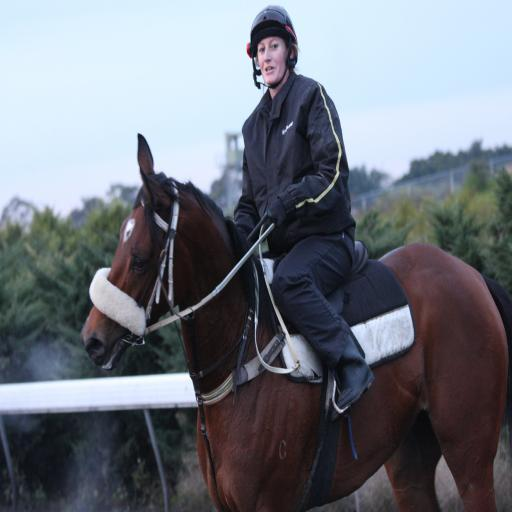horse: (82, 130, 510, 512)
